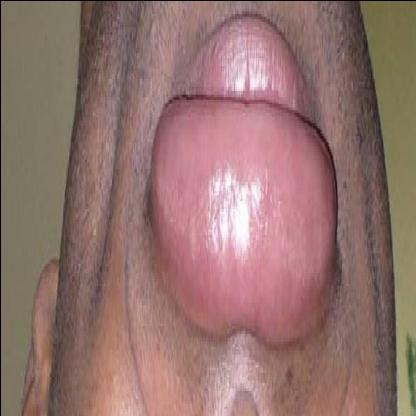Wasp: (140, 94, 344, 338)
